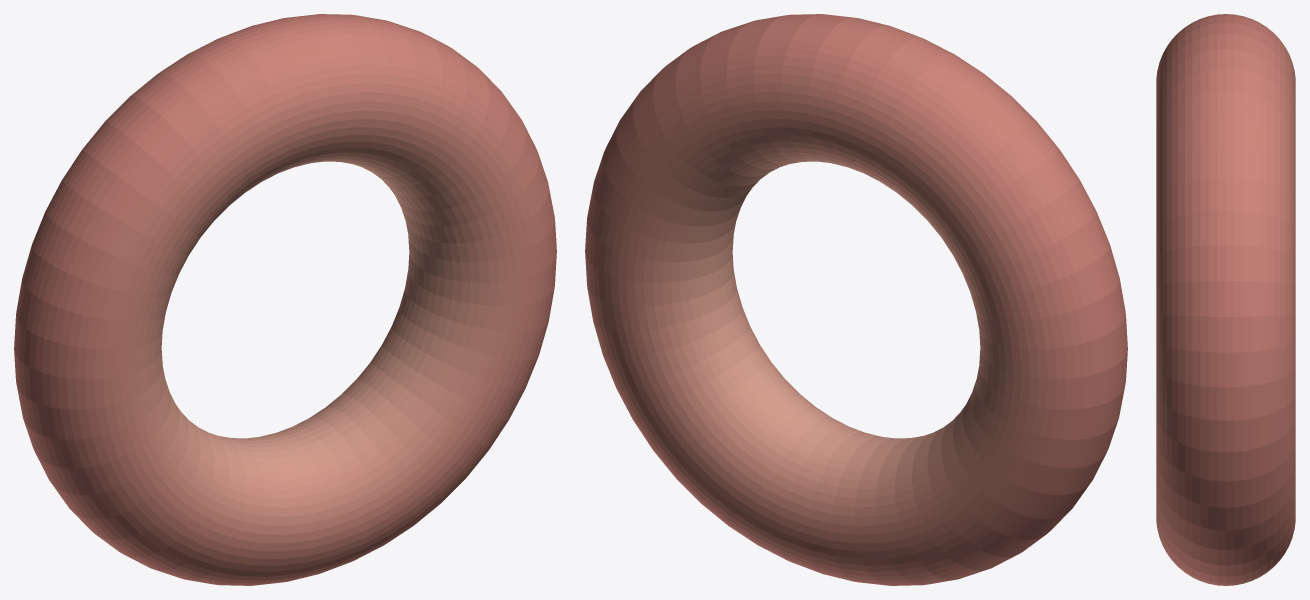
3 renders of one model, left to right at view 1: azimuth 30°, elevation 25°; view 2: azimuth 150°, elevation 25°; view 3: azimuth 270°, elevation 25°, orthographic. The views are drawn at different scales.
Visible parts, largest first — view 1: world; view 2: world; view 3: world.
Part boxes in pixels (x1,y1,x2,y2): world: [14, 14, 556, 585]; world: [585, 14, 1127, 585]; world: [1156, 14, 1295, 585].
Size of the model in its own units: 30 by 29.94 by 7.32.
